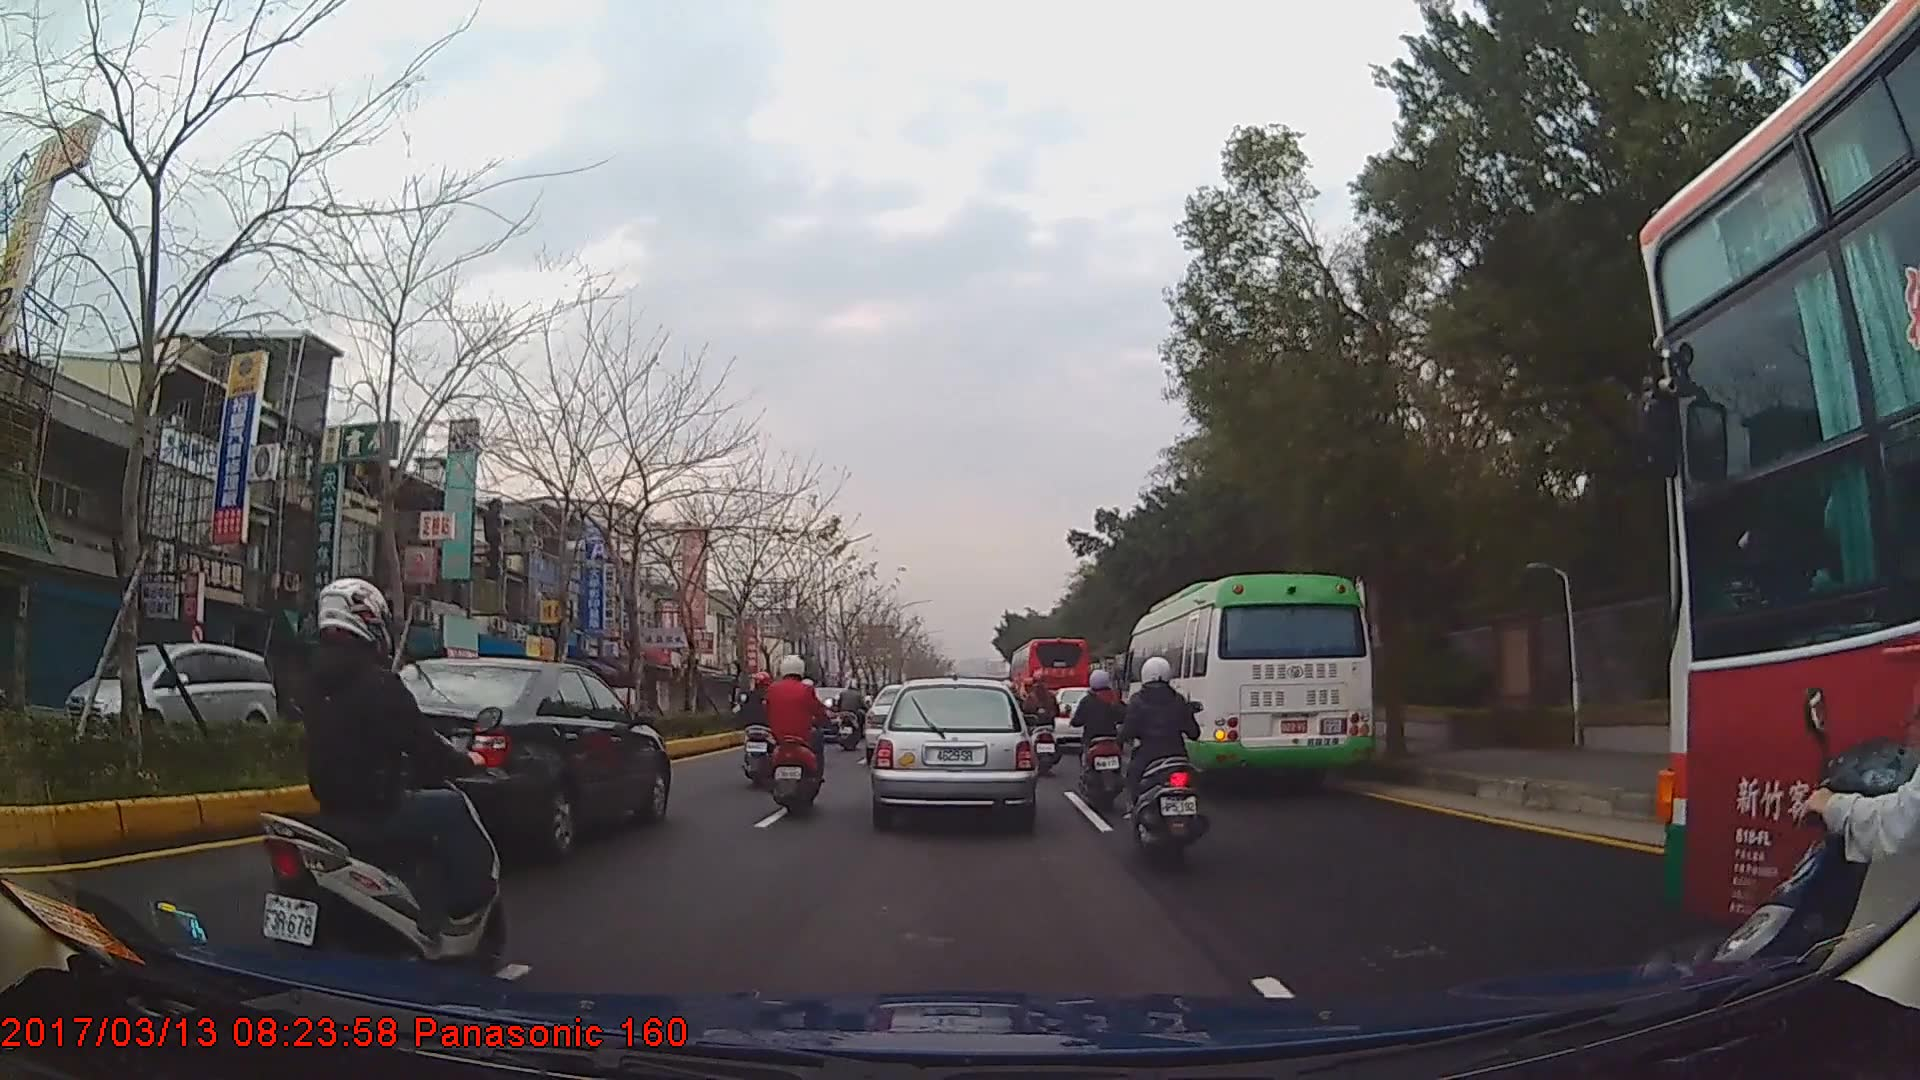rider: (1712, 491, 1920, 1021), (261, 575, 504, 997), (1125, 654, 1214, 865), (761, 651, 824, 820), (1069, 666, 1132, 814), (738, 669, 786, 788), (1021, 670, 1063, 778), (835, 678, 870, 752)
vehicle: (1640, 0, 1919, 1012), (305, 656, 669, 858), (1121, 571, 1379, 791), (872, 677, 1035, 828), (65, 643, 273, 749), (1009, 634, 1093, 730)
